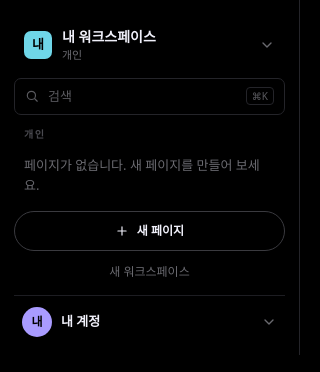
Test case: Sidebar › AC-5: 워크스페이스 2개를 모두 표시한다
Expected: the text "내 워크스페이스" is shown, [62,27,156,46]
Click the button "내 내 워크스페이스 개인": (150, 45) [14,18,285,72]
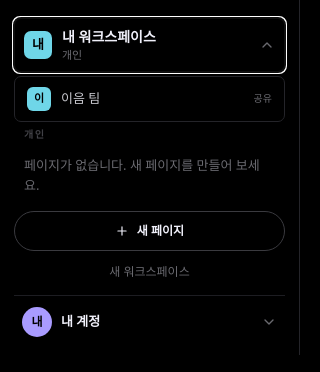
Expected: the text "이음 팀" is shown, [61,89,100,107]
